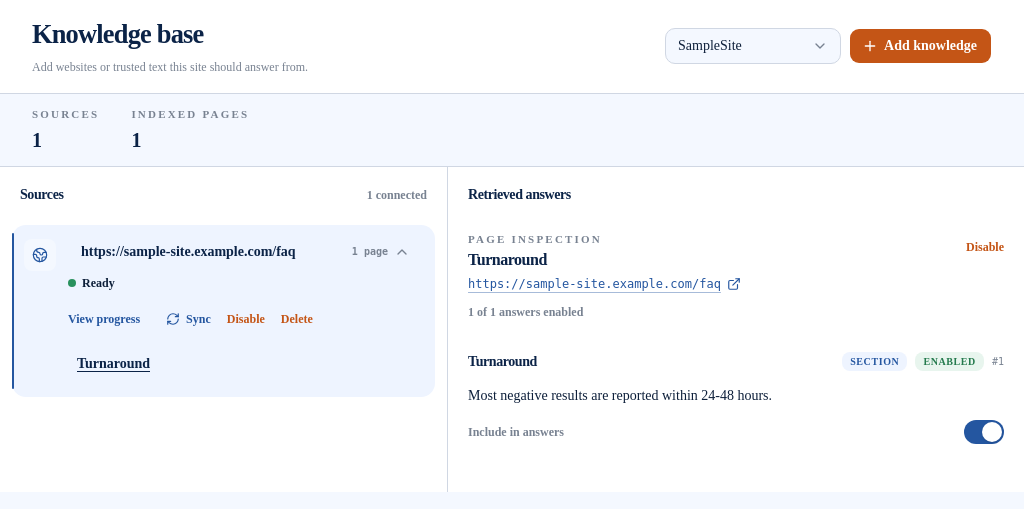
Test case: knowledge page detail › an administrator can exclude one retrieved answer without removing it
Click the button "Turnaround" at (114, 364), box x1=68 y1=348 x2=423 y2=382
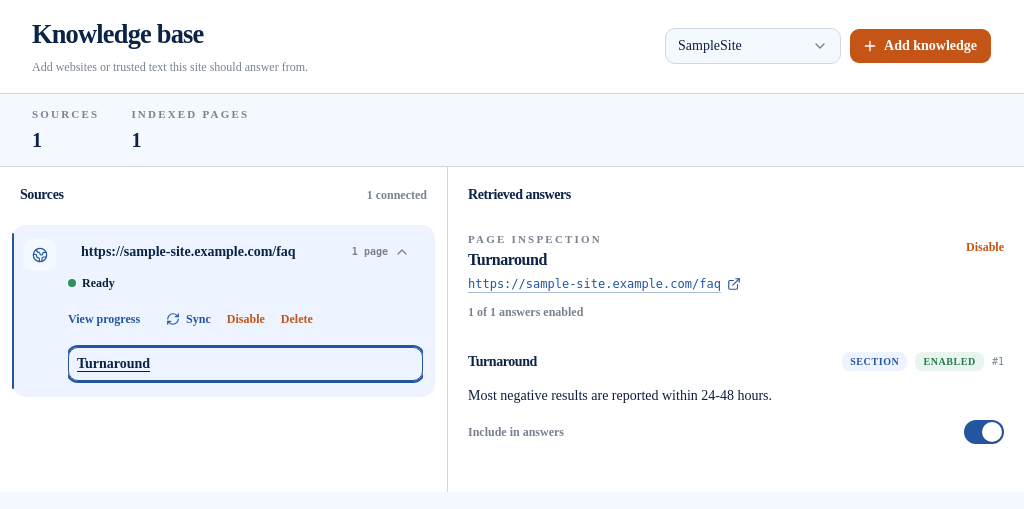
Click the switch named "Include Turnaround in answers" at (984, 432), box x1=964 y1=420 x2=1004 y2=444
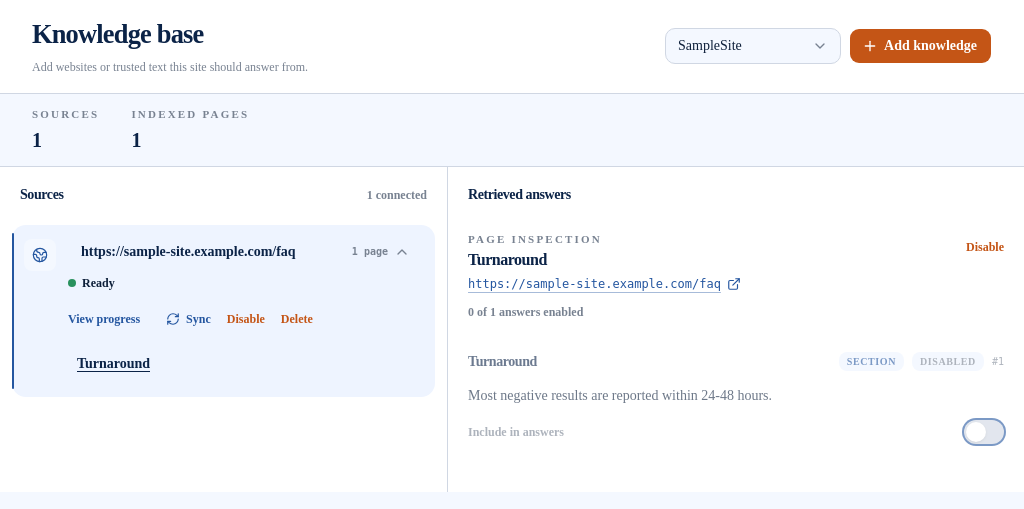
Now the text "0 of 1 answers enabled" is shown, box x1=468 y1=305 x2=583 y2=319
